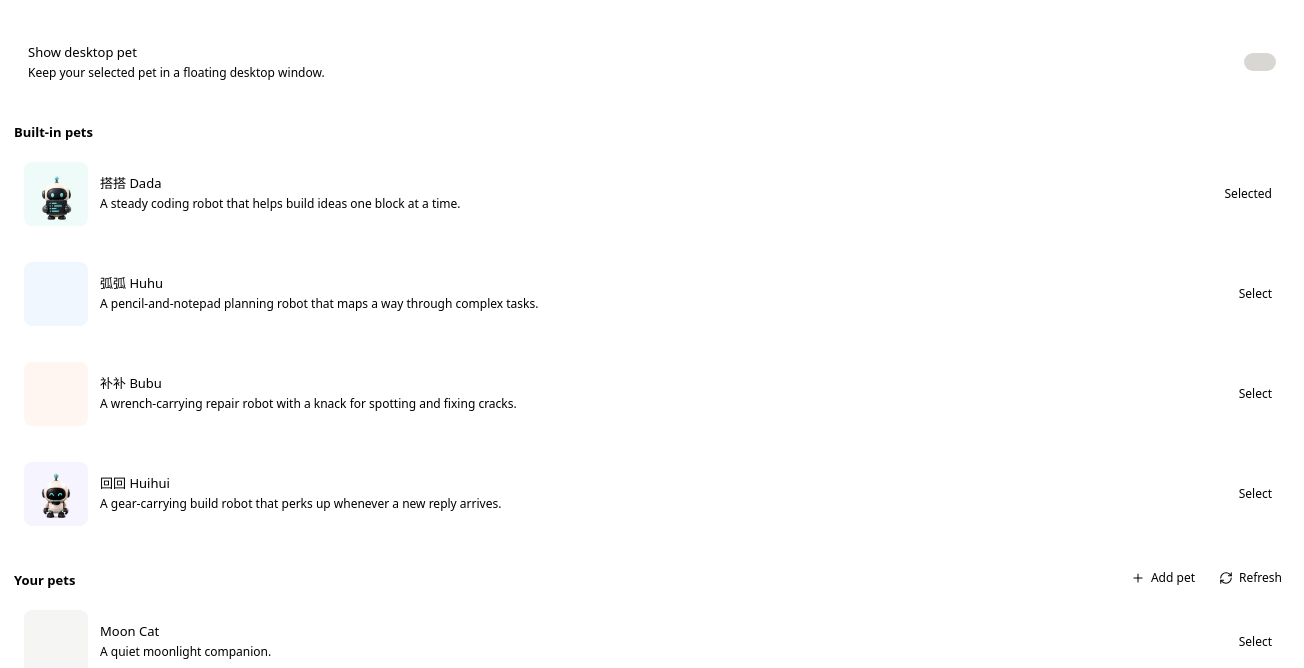
Test case: PetSettings › rolls back the saved preference when the native pet window cannot open
Click the switch named "Show desktop pet".
click(1260, 62)  # box [1244,52,1276,70]
(page scrolled)
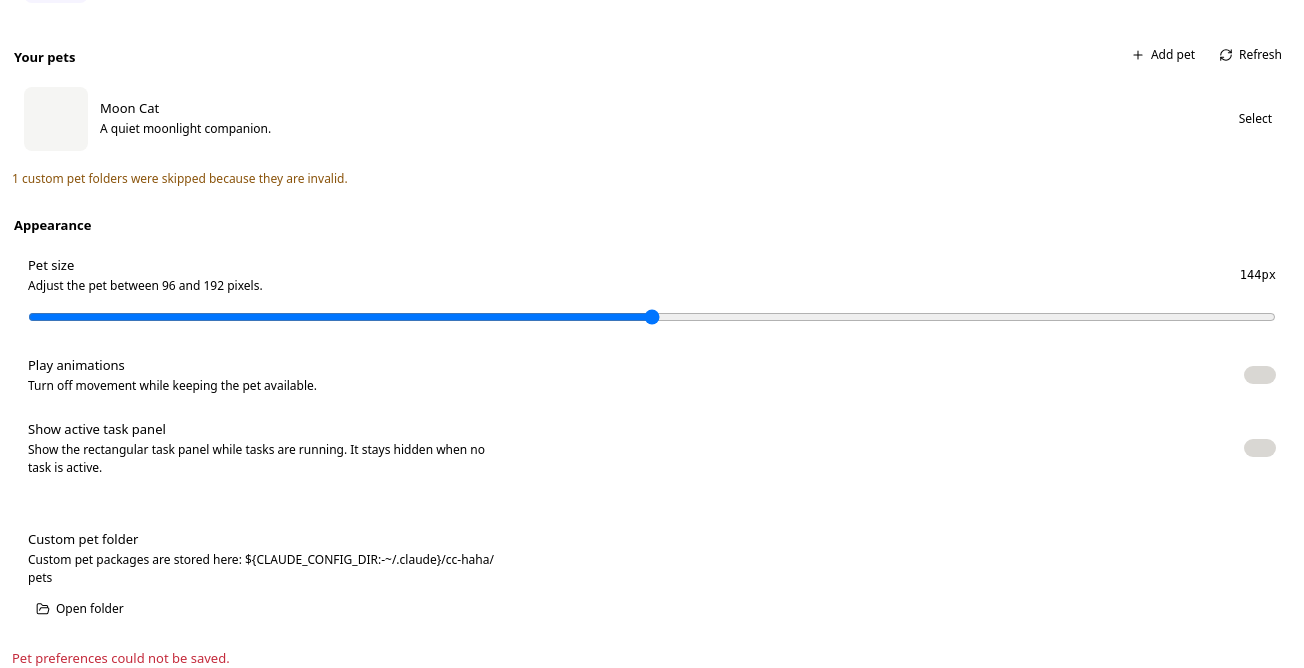
Expected: the message "Pet preferences could not be saved." is shown, [12,648,230,666]
